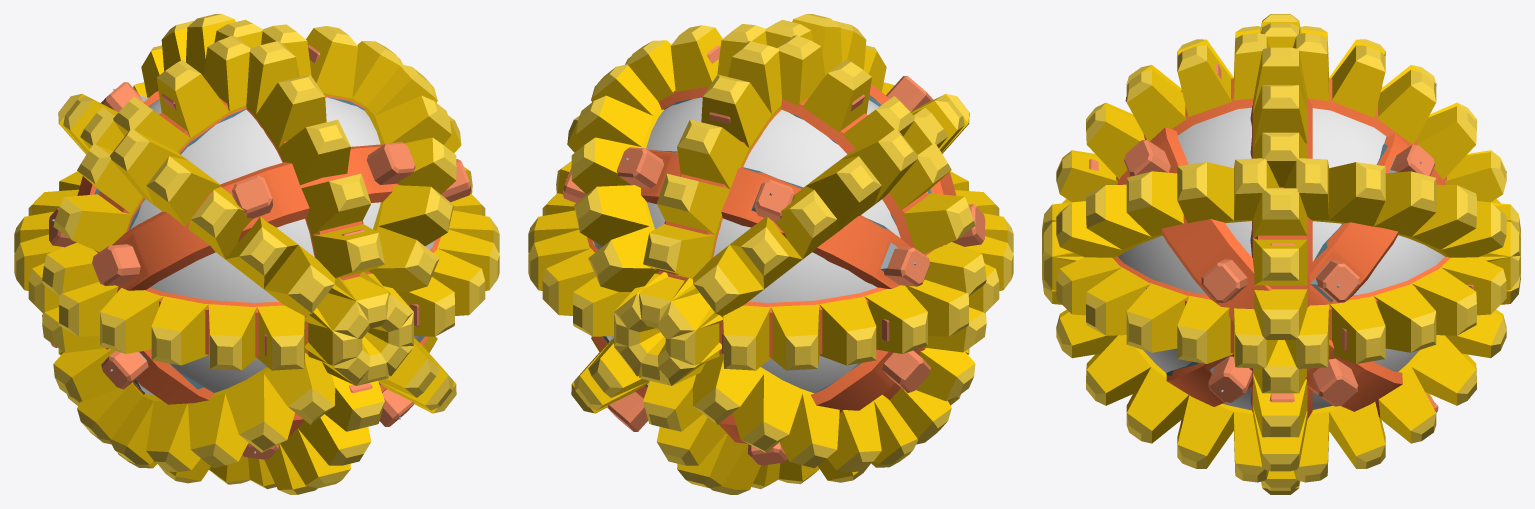
File: DiggerBall.fbx
The picture shows the model from 3 angles, left to right: view 1: azimuth 30°, elevation 25°; view 2: azimuth 150°, elevation 25°; view 3: azimuth 270°, elevation 25°; orthographic projection.
Parts seen in each view (by area): view 1: Lv4Gold, Lv1Gold, Lv5Gold, Lv2Gold, Lv3Gold, Lv2Wood., MainSphere, Lv4Wood, Lv1Wood, Lv6Wood, Lv3Wood.; view 2: Lv5Gold, Lv1Gold, Lv2Gold, Lv4Gold, Lv3Gold, MainSphere, Lv4Wood, Lv2Wood., Lv6Wood, Lv1Wood, Lv3Wood.; view 3: Lv3Gold, Lv2Gold, Lv5Gold, Lv1Gold, Lv4Gold, MainSphere, Lv2Wood., Lv4Wood, Lv3Wood., Lv6Wood, Lv1Wood, Lv5Iron.
Boxes of the visible parts, x1,y1,x2,y2 form: Lv4Gold: [42, 24, 472, 484]; Lv1Gold: [133, 14, 388, 494]; Lv5Gold: [58, 57, 456, 471]; Lv2Gold: [14, 171, 499, 370]; Lv3Gold: [58, 94, 456, 413]; Lv2Wood.: [42, 142, 471, 347]; MainSphere: [131, 97, 434, 396]; Lv4Wood: [49, 82, 428, 459]; Lv1Wood: [144, 237, 440, 357]; Lv6Wood: [95, 45, 365, 394]; Lv3Wood.: [246, 108, 372, 393]; Lv5Gold: [571, 56, 969, 471]; Lv1Gold: [639, 14, 894, 494]; Lv2Gold: [528, 171, 1013, 370]; Lv4Gold: [556, 24, 986, 484]; Lv3Gold: [571, 94, 969, 413]; MainSphere: [593, 97, 927, 393]; Lv4Wood: [562, 147, 929, 288]; Lv2Wood.: [591, 76, 985, 465]; Lv6Wood: [658, 45, 946, 399]; Lv1Wood: [587, 237, 985, 357]; Lv3Wood.: [655, 109, 781, 280]; Lv3Gold: [1042, 26, 1520, 482]; Lv2Gold: [1042, 199, 1520, 368]; Lv5Gold: [1042, 158, 1520, 261]; Lv1Gold: [1042, 33, 1520, 444]; Lv4Gold: [1253, 14, 1307, 494]; MainSphere: [1118, 107, 1444, 410]; Lv2Wood.: [1124, 90, 1438, 417]; Lv4Wood: [1130, 134, 1435, 406]; Lv3Wood.: [1089, 63, 1446, 431]; Lv6Wood: [1252, 97, 1312, 418]; Lv1Wood: [1112, 256, 1473, 353]; Lv5Iron: [1166, 136, 1421, 392].
Bounding box in the file's own units: 1460 × 1460 × 1460.
